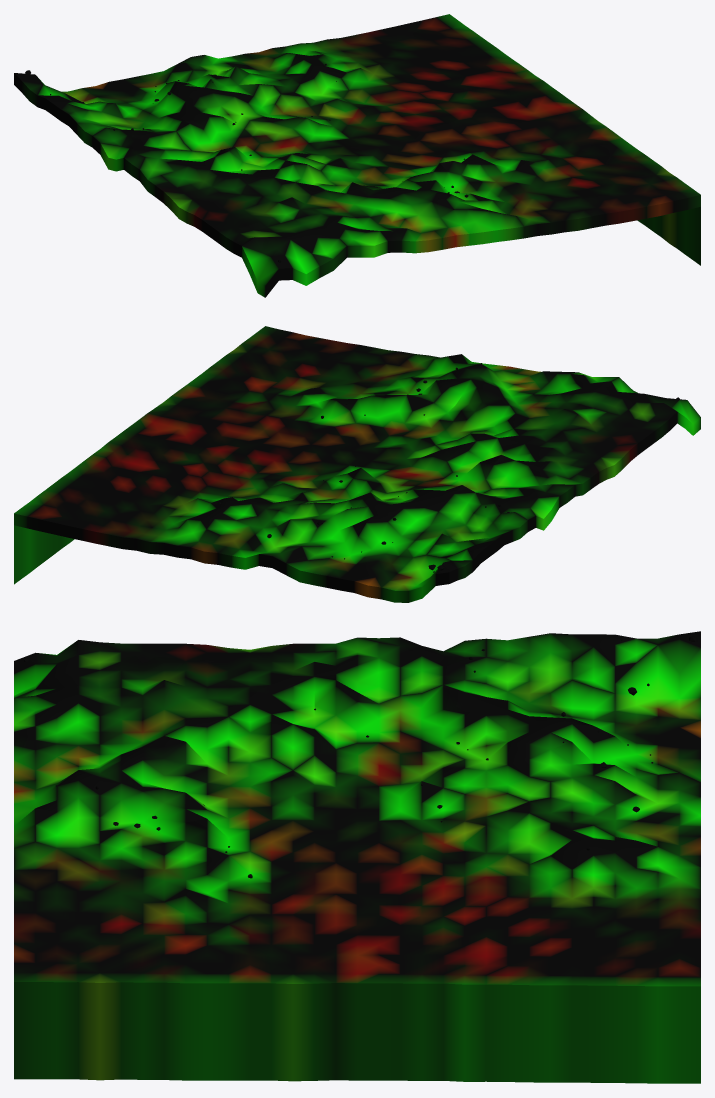
Rendered from Terrain_01_00.fbx.
3 views of the same model, one above another, from view 1: azimuth 30°, elevation 25°; view 2: azimuth 150°, elevation 25°; view 3: azimuth 270°, elevation 25° (orthographic). The views are drawn at different scales.
Visible parts, largest first — view 1: Terrain_01_00_LOD0; view 2: Terrain_01_00_LOD0; view 3: Terrain_01_00_LOD0.
Part boxes in pixels (bbox=[...]): Terrain_01_00_LOD0: bbox=[14, 14, 700, 297]; Terrain_01_00_LOD0: bbox=[14, 326, 700, 602]; Terrain_01_00_LOD0: bbox=[14, 631, 700, 1083].
Size of what is drawn, in the model's own units: 384 by 101 by 384.
